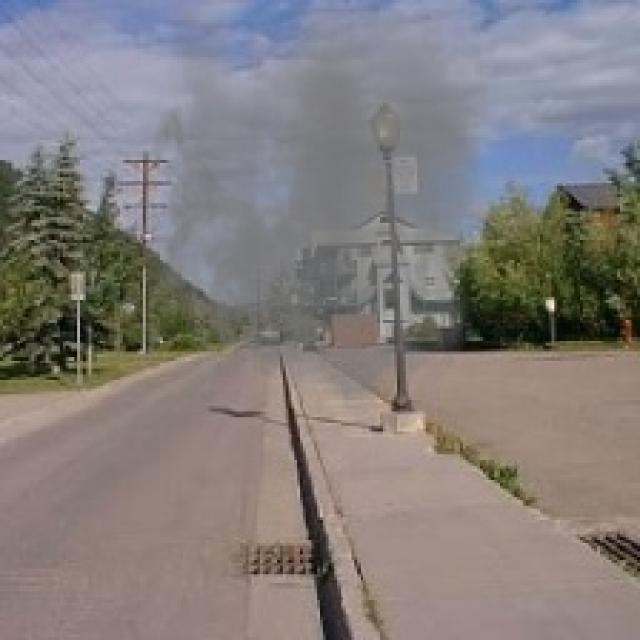smoke: (140, 9, 489, 428)
